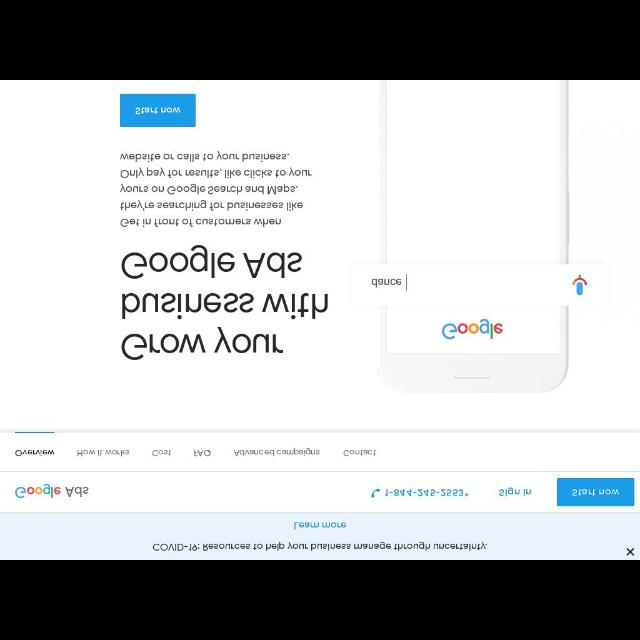icon: (372, 488, 382, 499), (627, 548, 635, 556)
image: (366, 81, 604, 395), (13, 482, 91, 502)
link: (294, 521, 348, 531)
multitab: (2, 432, 638, 470)
panel: (2, 511, 640, 559)
text: (122, 245, 328, 361), (119, 151, 313, 229), (153, 540, 489, 552), (384, 488, 468, 498), (234, 449, 322, 456), (498, 488, 534, 498), (14, 449, 56, 457), (76, 450, 132, 456), (344, 449, 376, 457), (153, 450, 173, 458), (193, 450, 211, 458)
textbutton: (120, 96, 196, 126), (557, 478, 635, 507)
toolbar: (1, 472, 639, 510)
